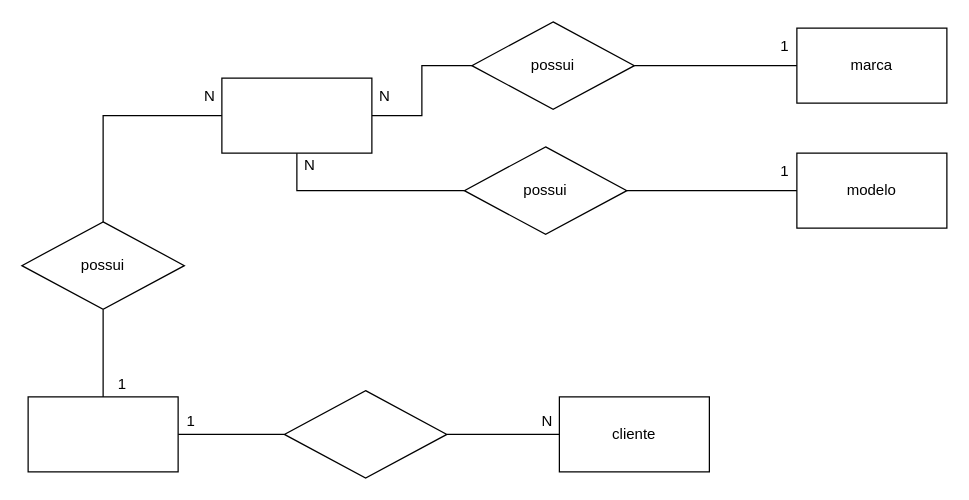
Some shapes in this 969 by 500 pixel diagram are drawn without their labels. The shapes that lost their labels are listed below. From the top down, each one's centre as x and y in pixels, then its label:
[296,115]: veiculo
[102,434]: empresa
[365,433]: relaciona
